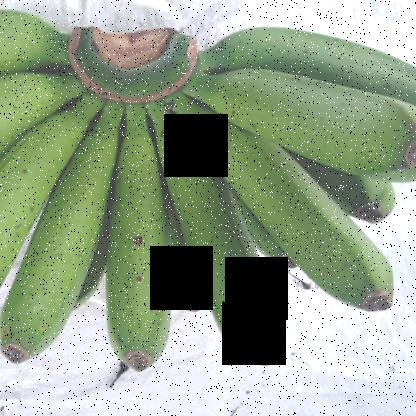unripe: (0, 114, 109, 368), (192, 64, 416, 173), (98, 105, 179, 378)
